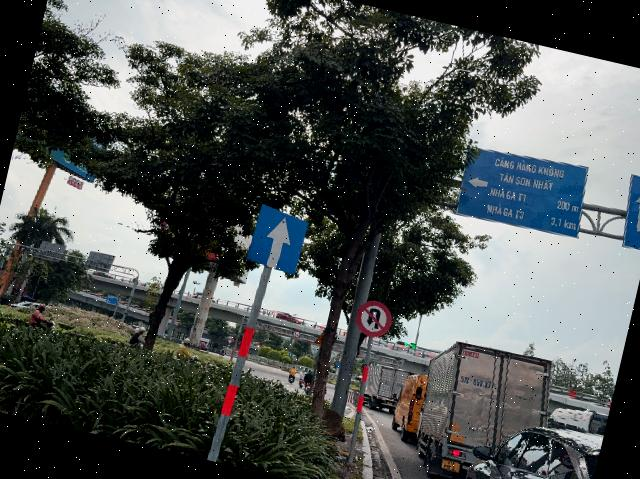cam-quay-dau-xe: (352, 296, 396, 340)
duong-mot-chieu: (244, 202, 310, 274)
